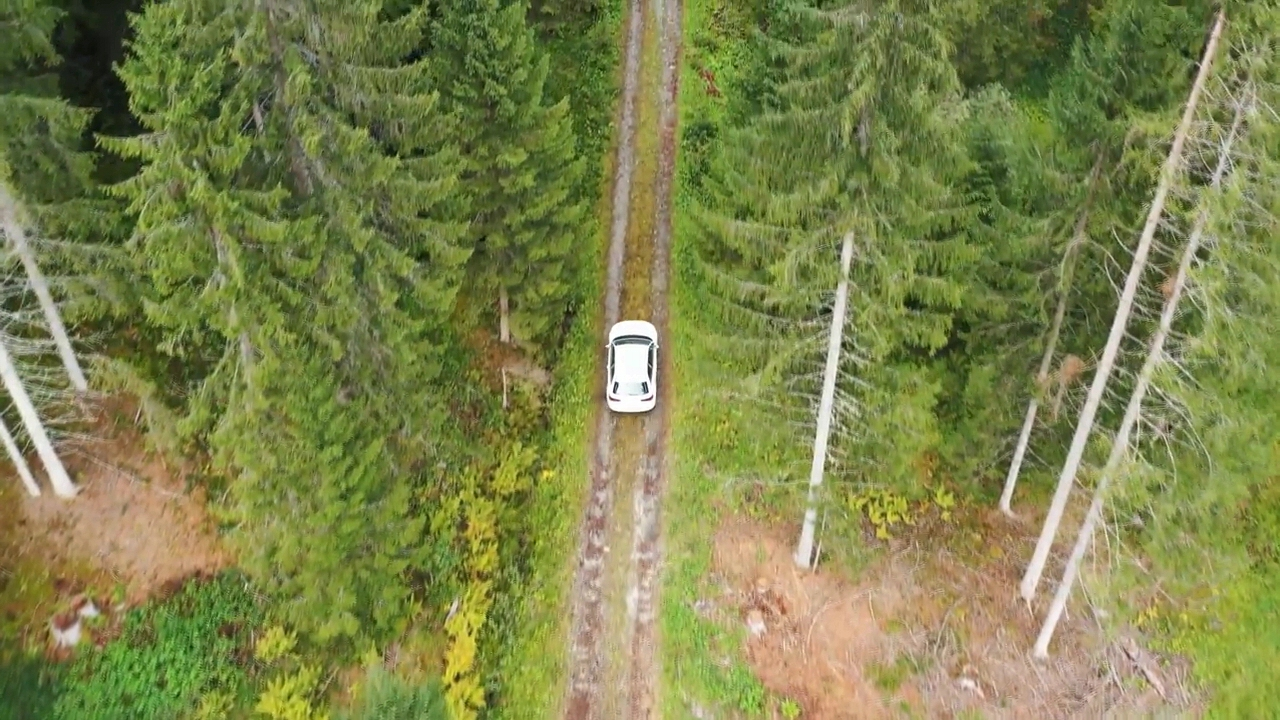araba: (606, 318, 660, 415)
